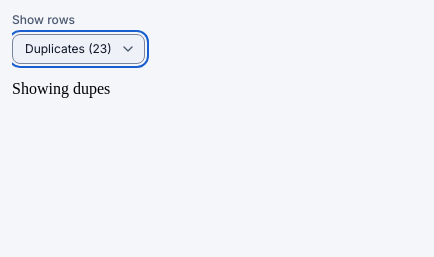
Test: SegmentedControl at narrow widths › is keyboard-operable when folded and the caller keeps the value through unfolding
Press Enter
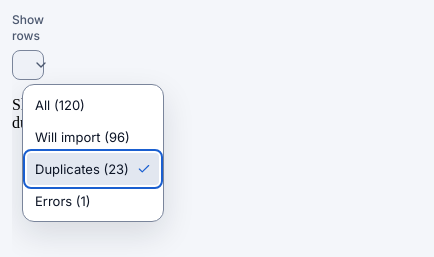
Click the option "Errors (1)" at (63, 201), box x1=35 y1=193 x2=91 y2=209
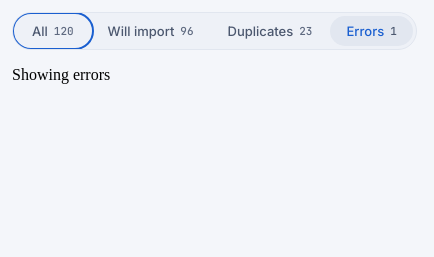
Result: the text "Showing errors" is shown at x1=12 y1=66 x2=110 y2=83
